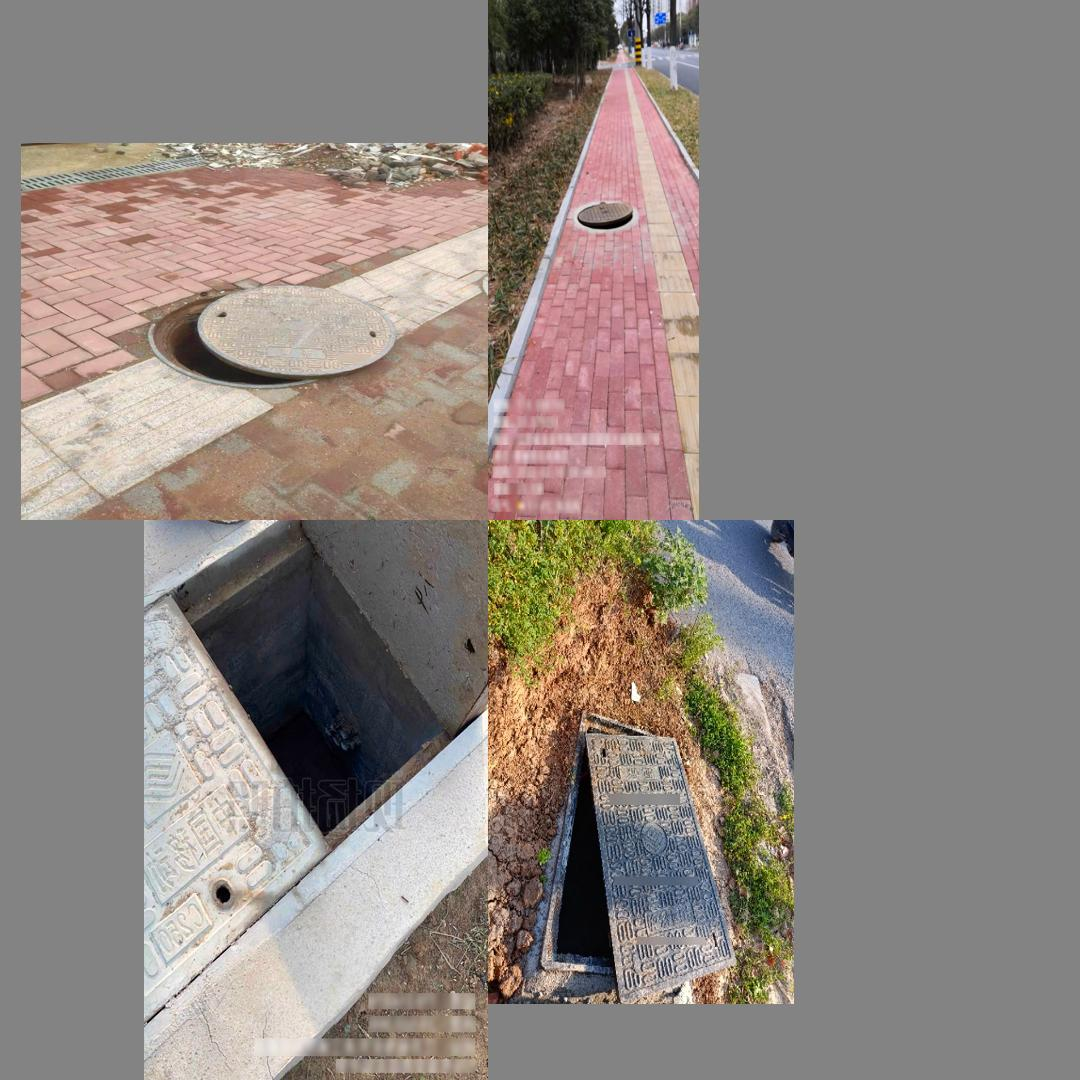uncovered: (144, 520, 486, 1064), (540, 708, 735, 1004), (145, 284, 395, 389), (575, 200, 635, 231)
